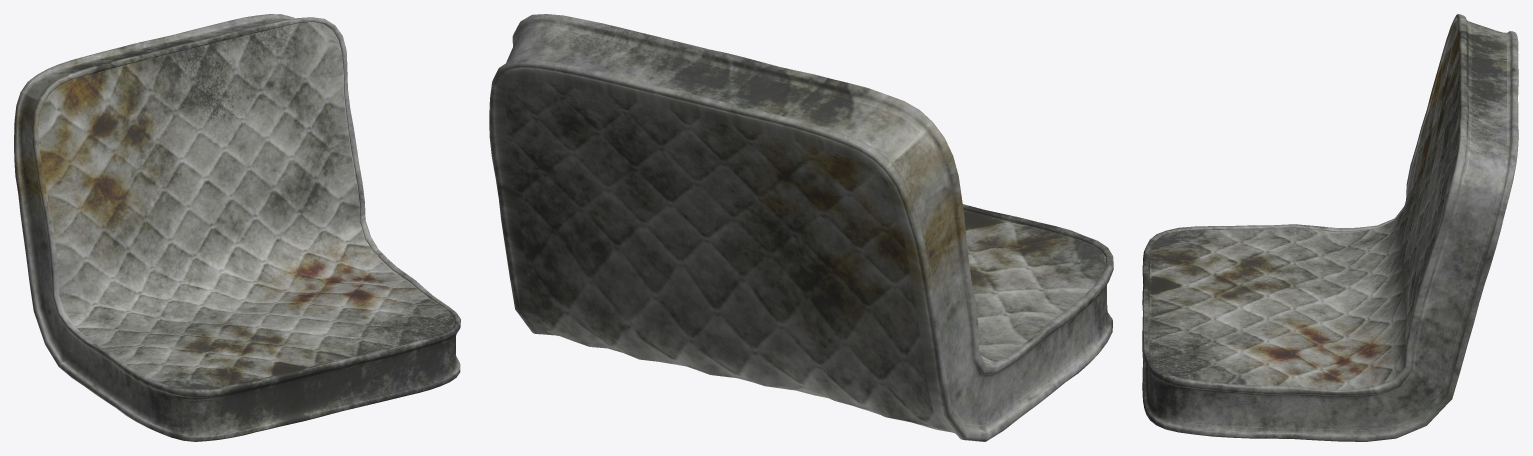
Rendered from Mattress2.fbx.
3 views of the same model, side by side, from view 1: azimuth 30°, elevation 25°; view 2: azimuth 150°, elevation 25°; view 3: azimuth 270°, elevation 25° (orthographic). The views are drawn at different scales.
Visible parts, largest first — view 1: Mattress2; view 2: Mattress2; view 3: Mattress2.
Part boxes in pixels (left/top/right/bottom): Mattress2: left=14, top=14, right=460, bottom=441; Mattress2: left=489, top=14, right=1113, bottom=441; Mattress2: left=1142, top=14, right=1518, bottom=441.
Bounding box in the file's own units: 514 × 413 × 495.
